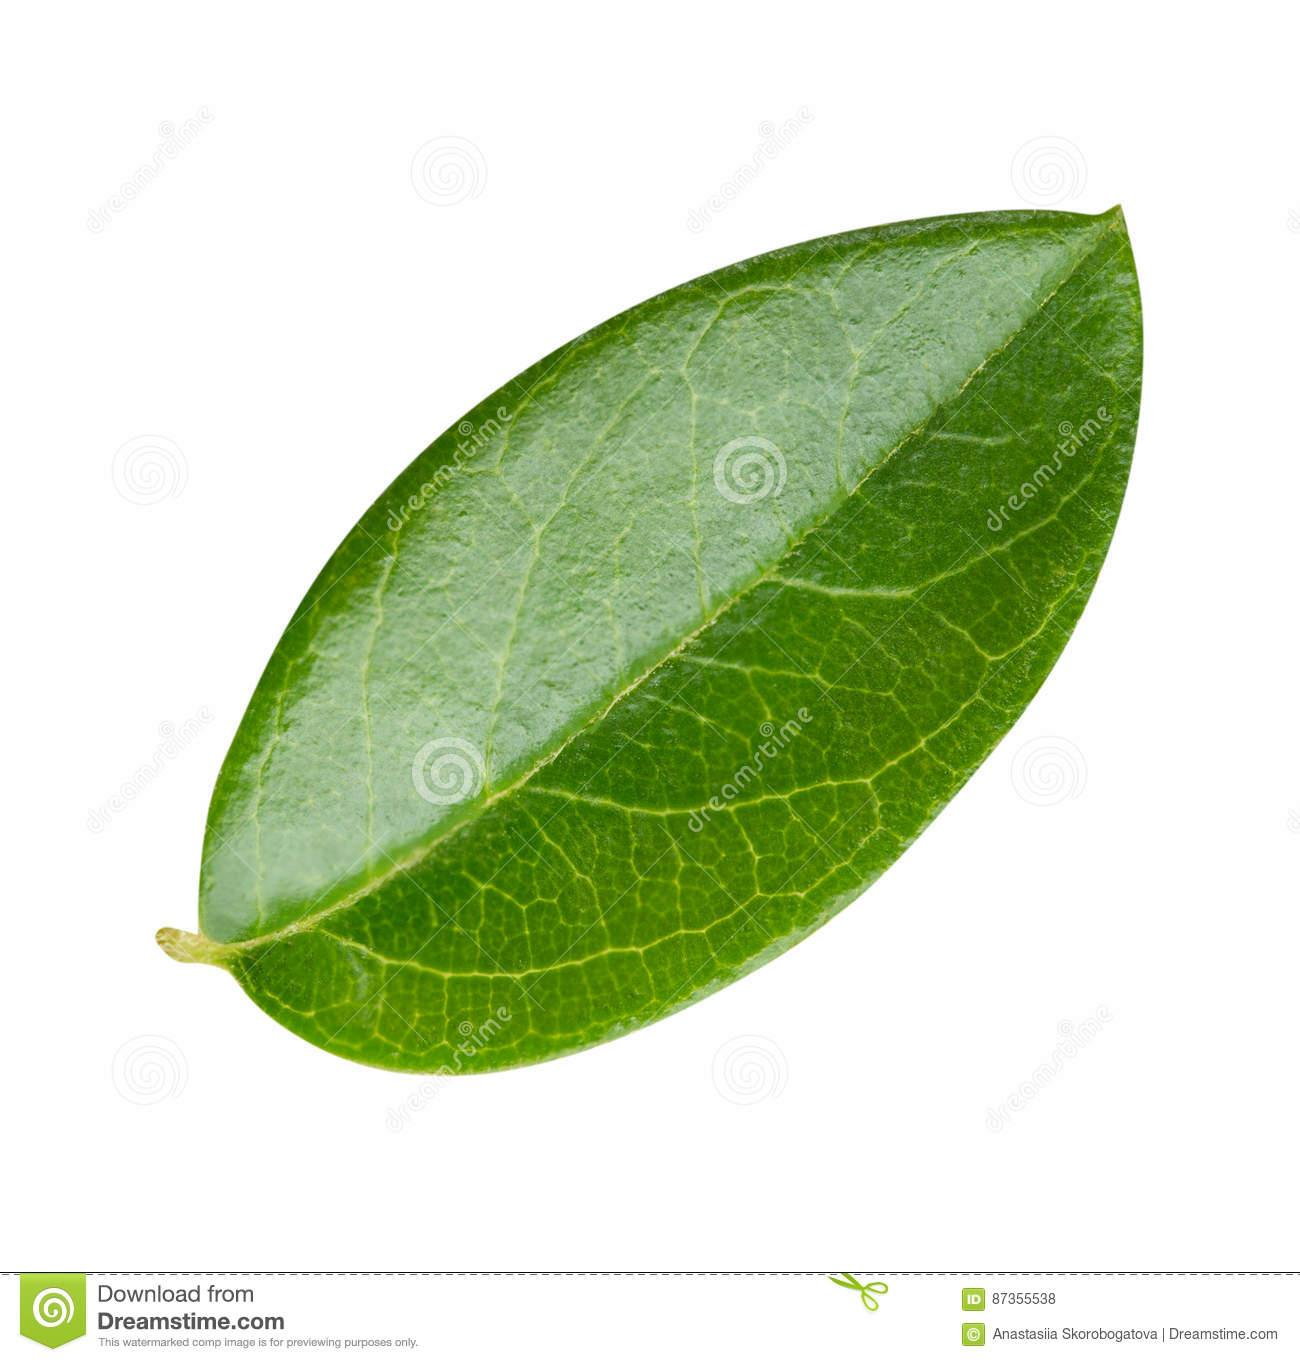Blueberry leaf: (126, 170, 1187, 1108)
